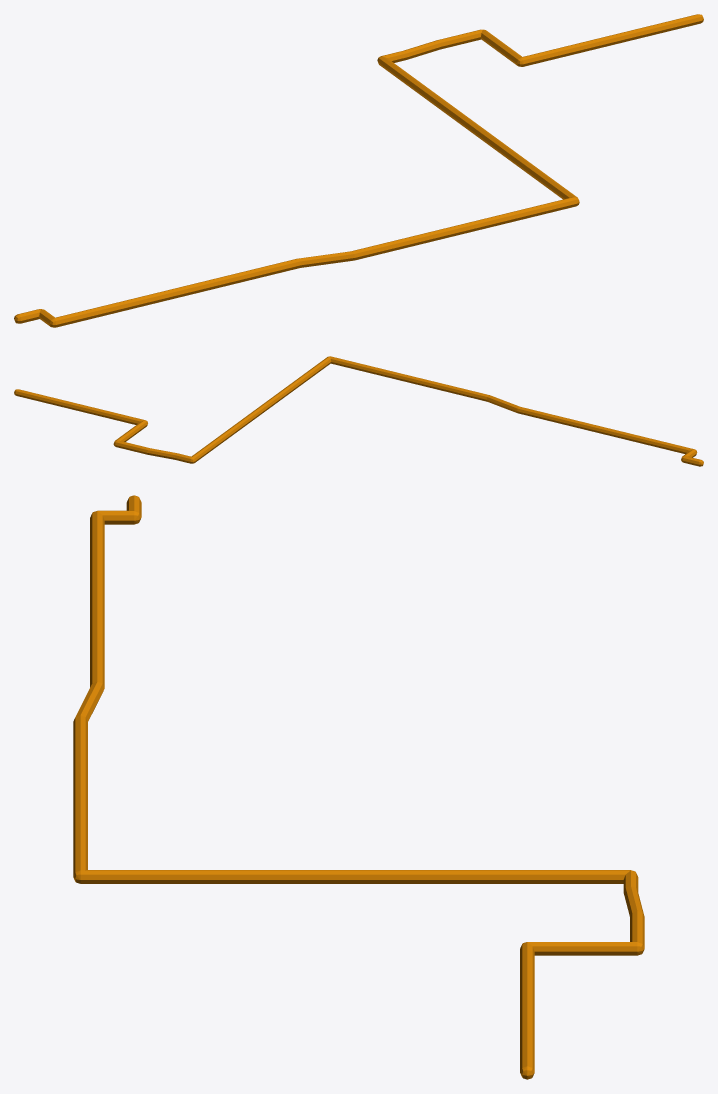
3 views of the same model, one above another, from view 1: azimuth 30°, elevation 25°; view 2: azimuth 150°, elevation 25°; view 3: azimuth 270°, elevation 25° (orthographic). The views are drawn at different scales.
Bounding box in the file's own units: 1860 × 20 × 779.
